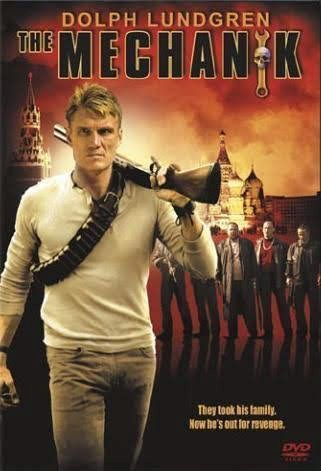gun: (117, 137, 225, 215)
